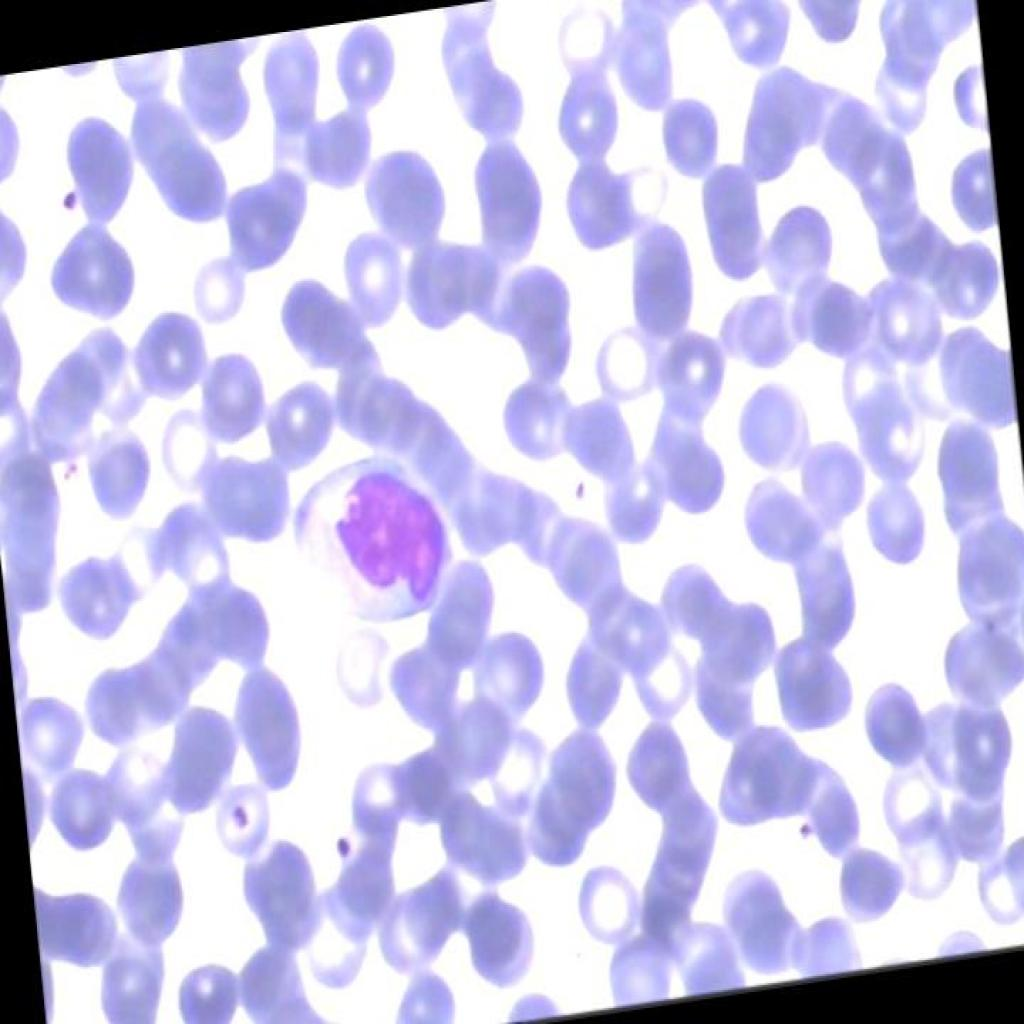Monosit: (269, 425, 456, 652)
Platelet: (786, 802, 826, 857), (54, 176, 87, 236), (320, 820, 354, 870), (225, 798, 256, 834), (568, 470, 593, 508)
